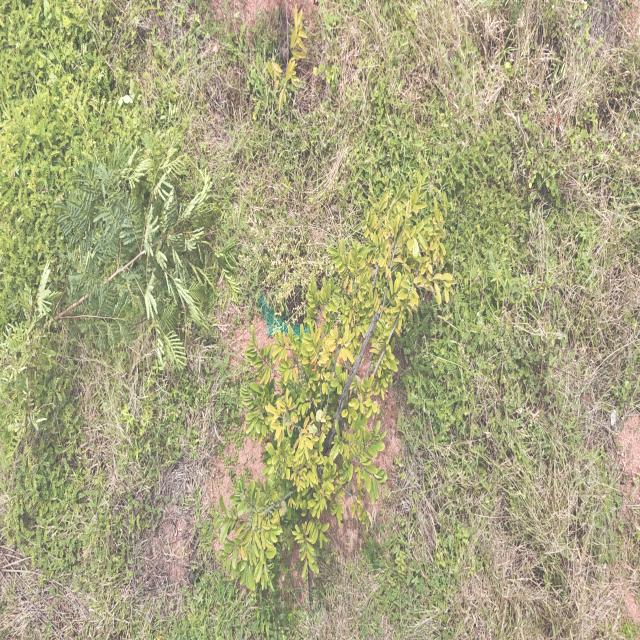notMangoTree: (241, 157, 461, 616), (4, 120, 228, 424)
